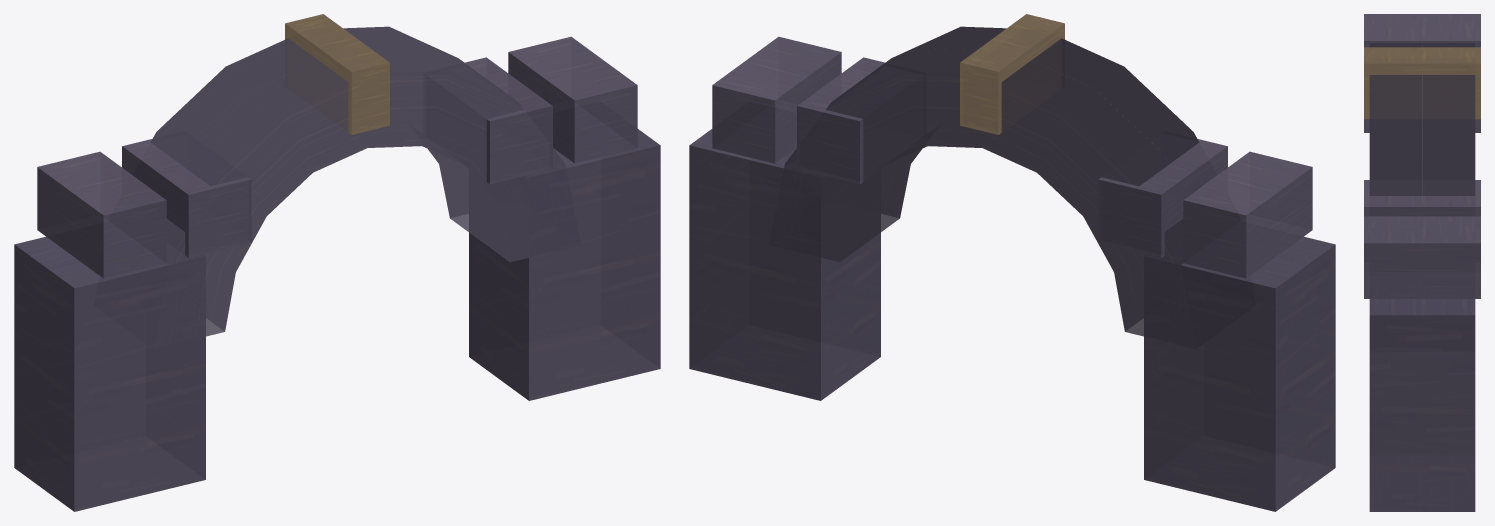
File: rempart-porte.glb
The picture shows the model from 3 angles, left to right: view 1: azimuth 30°, elevation 25°; view 2: azimuth 150°, elevation 25°; view 3: azimuth 270°, elevation 25°; orthographic projection. The views are drawn at different scales.
Visible parts, largest first — view 1: ArcBas, PilierG, PilierD, Crenel-0.86, Crenel0.86, Crenel-0.55, Clé, Crenel0.55; view 2: ArcBas, PilierG, PilierD, Crenel-0.86, Crenel0.86, Crenel-0.55, Clé, Crenel0.55; view 3: PilierD, ArcBas, Crenel0.86, Clé, Crenel0.55, Crenel-0.86, Crenel-0.55.
Part boxes in pixels (x1,y1,x2,y2): ArcBas: [133, 26, 579, 348]; PilierG: [14, 236, 205, 511]; PilierD: [469, 129, 660, 400]; Crenel-0.86: [37, 151, 166, 278]; Crenel0.86: [508, 36, 637, 163]; Crenel-0.55: [122, 135, 251, 257]; Clé: [285, 14, 389, 134]; Crenel0.55: [430, 57, 552, 184]; ArcBas: [769, 26, 1255, 348]; PilierG: [1144, 236, 1335, 511]; PilierD: [689, 129, 880, 400]; Crenel-0.86: [1183, 151, 1312, 278]; Crenel0.86: [712, 36, 841, 163]; Crenel-0.55: [1098, 135, 1227, 257]; Clé: [960, 14, 1064, 134]; Crenel0.55: [797, 57, 919, 184]; PilierD: [1369, 299, 1475, 511]; ArcBas: [1369, 43, 1475, 195]; Crenel0.86: [1364, 216, 1480, 298]; Clé: [1364, 47, 1480, 119]; Crenel0.55: [1364, 180, 1480, 216]; Crenel-0.86: [1364, 14, 1480, 47]; Crenel-0.55: [1364, 119, 1480, 132].
Bounding box in the file's own units: 2.14 × 1.31 × 0.42.
Materials: 3 (3 with a texture image).
